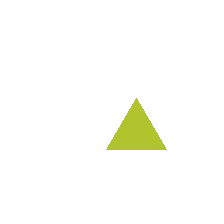triangle: (106, 98, 166, 149)
